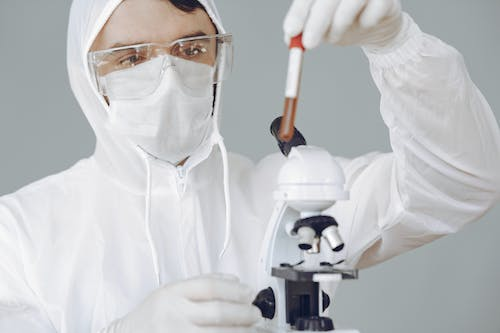blood: (278, 96, 302, 143)
